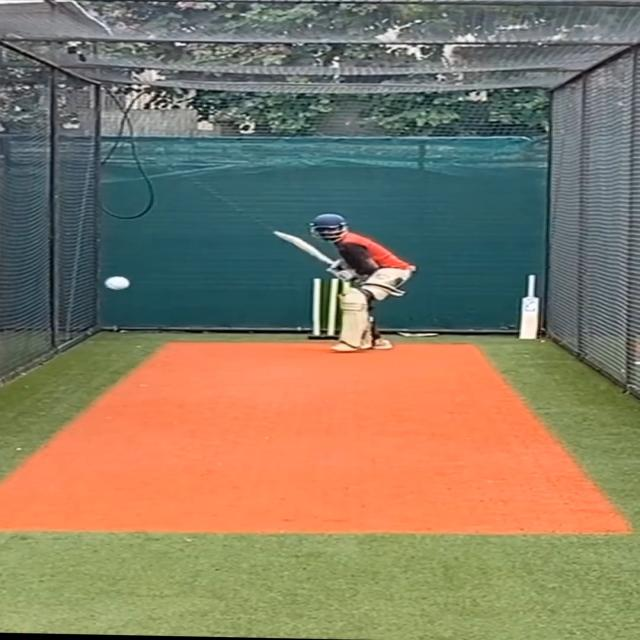ball: (103, 272, 133, 294)
stump: (308, 277, 342, 340)
